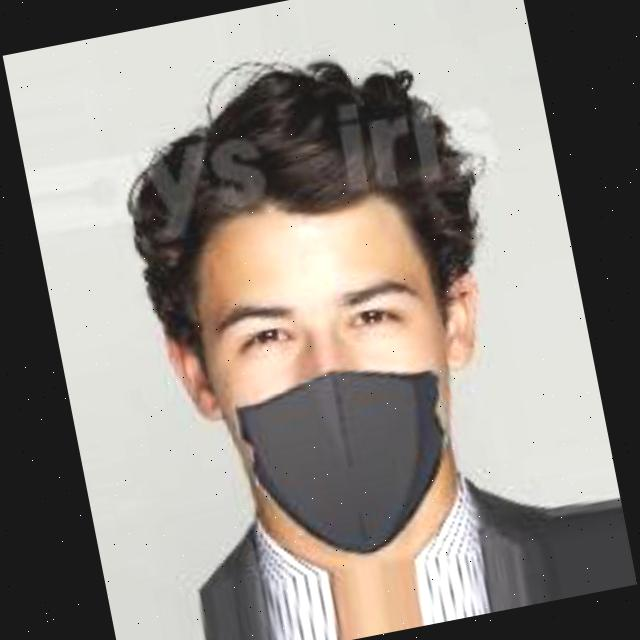suspicion: (126, 130, 502, 596)
